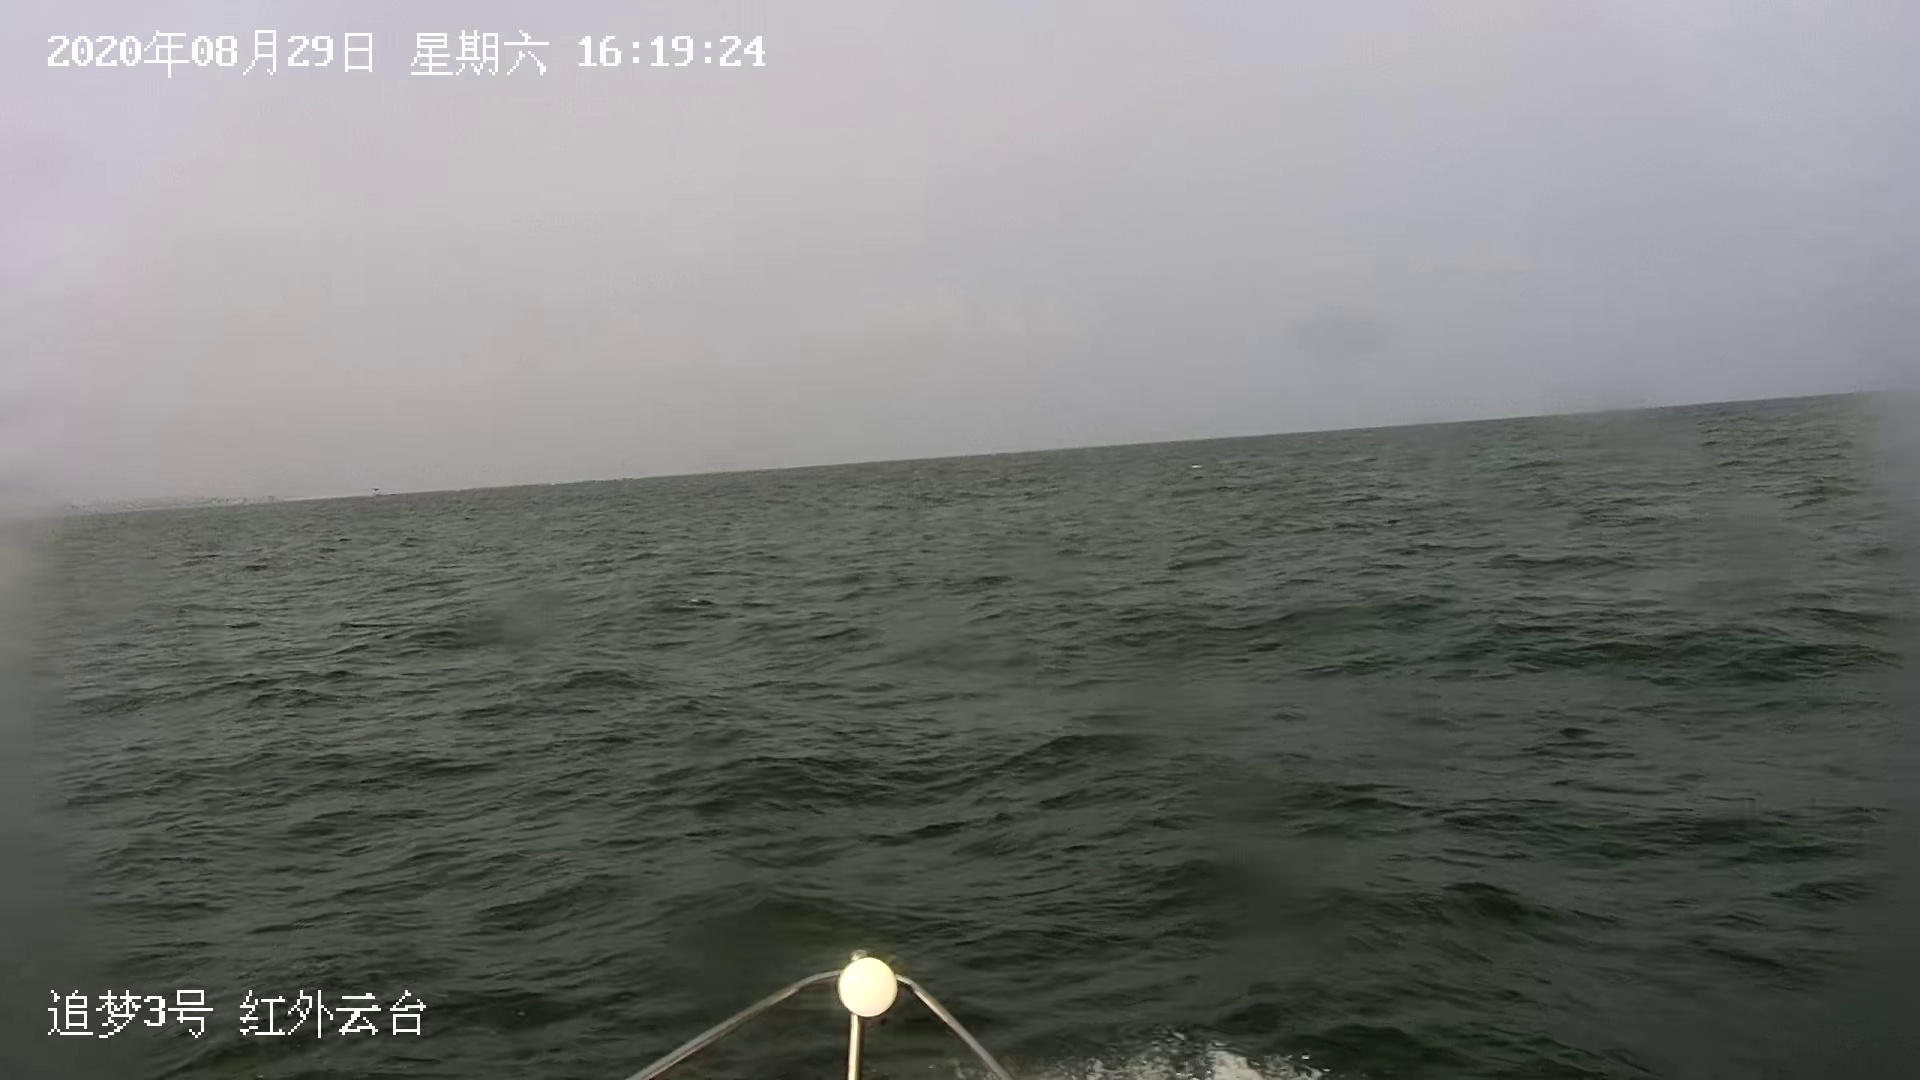coast: (3, 488, 327, 524)
